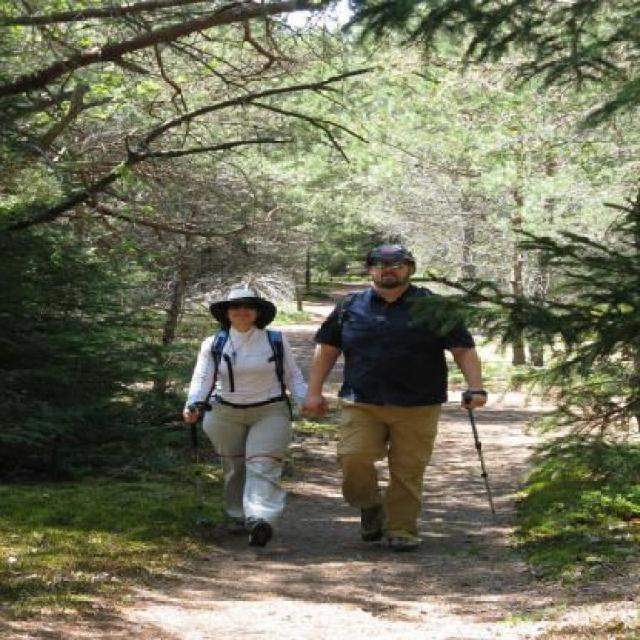backpack: (266, 326, 288, 386), (210, 330, 228, 372), (337, 292, 355, 331)
